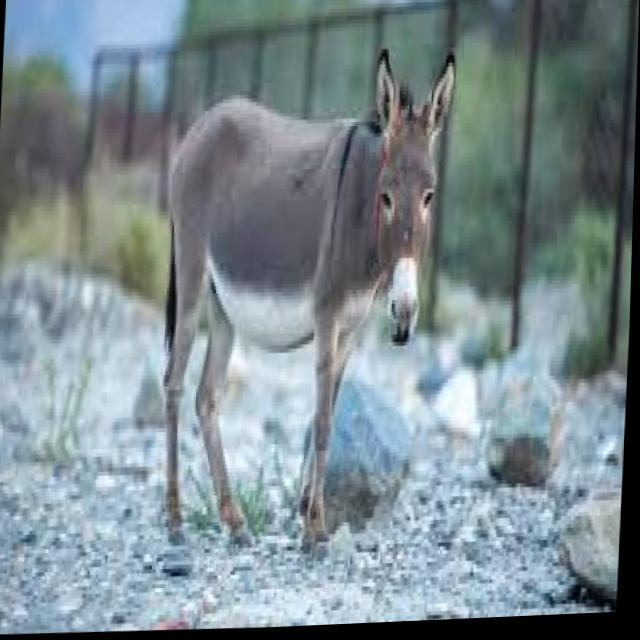Donkey: (135, 41, 505, 634)
